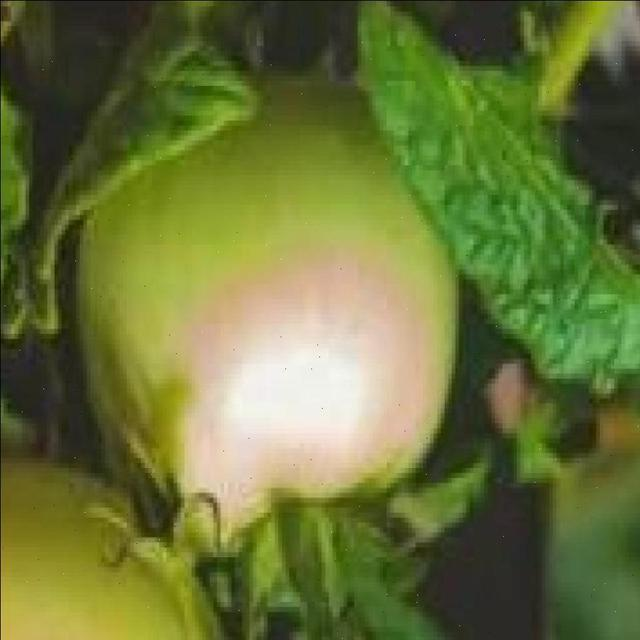Sunscald Fruit: (115, 164, 288, 357)
